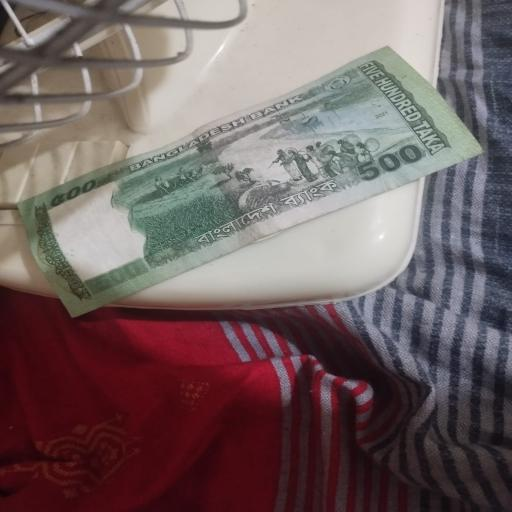500taka: (16, 45, 492, 318)
